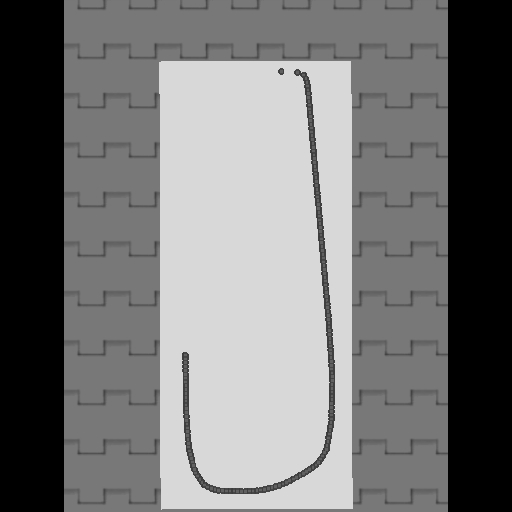Defect: (176, 79, 245, 351)
